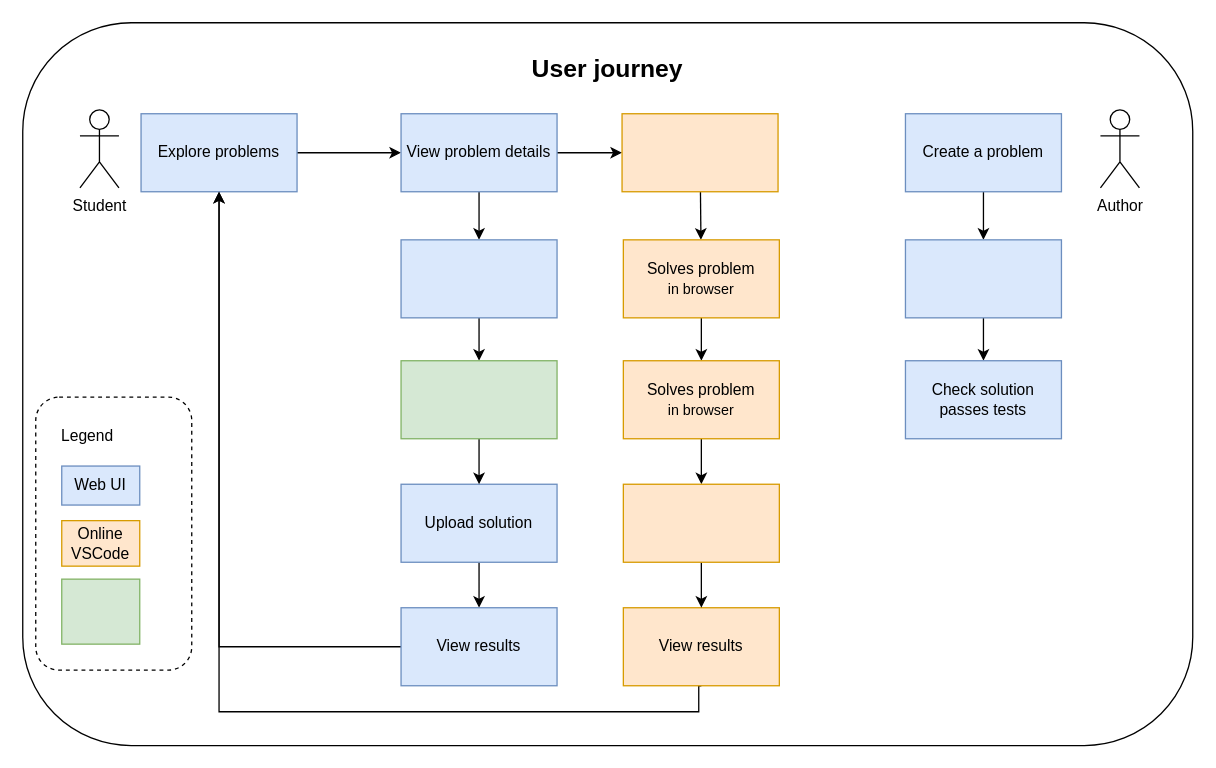
The diagram is 1216 pixels wide and 768 high, and some of its shapes have lost their labels. The shapes that lost their labels are listed below. From the top down, each one's centre as x and y in pixels, then its label:
At [699,152]: "Open online editor".
At [478,278]: "Download sources".
At [982,278]: "Upload files".
At [478,399]: "Solves problem locally".
At [700,522]: "Check solution".
At [100,611]: "Local student computer".
